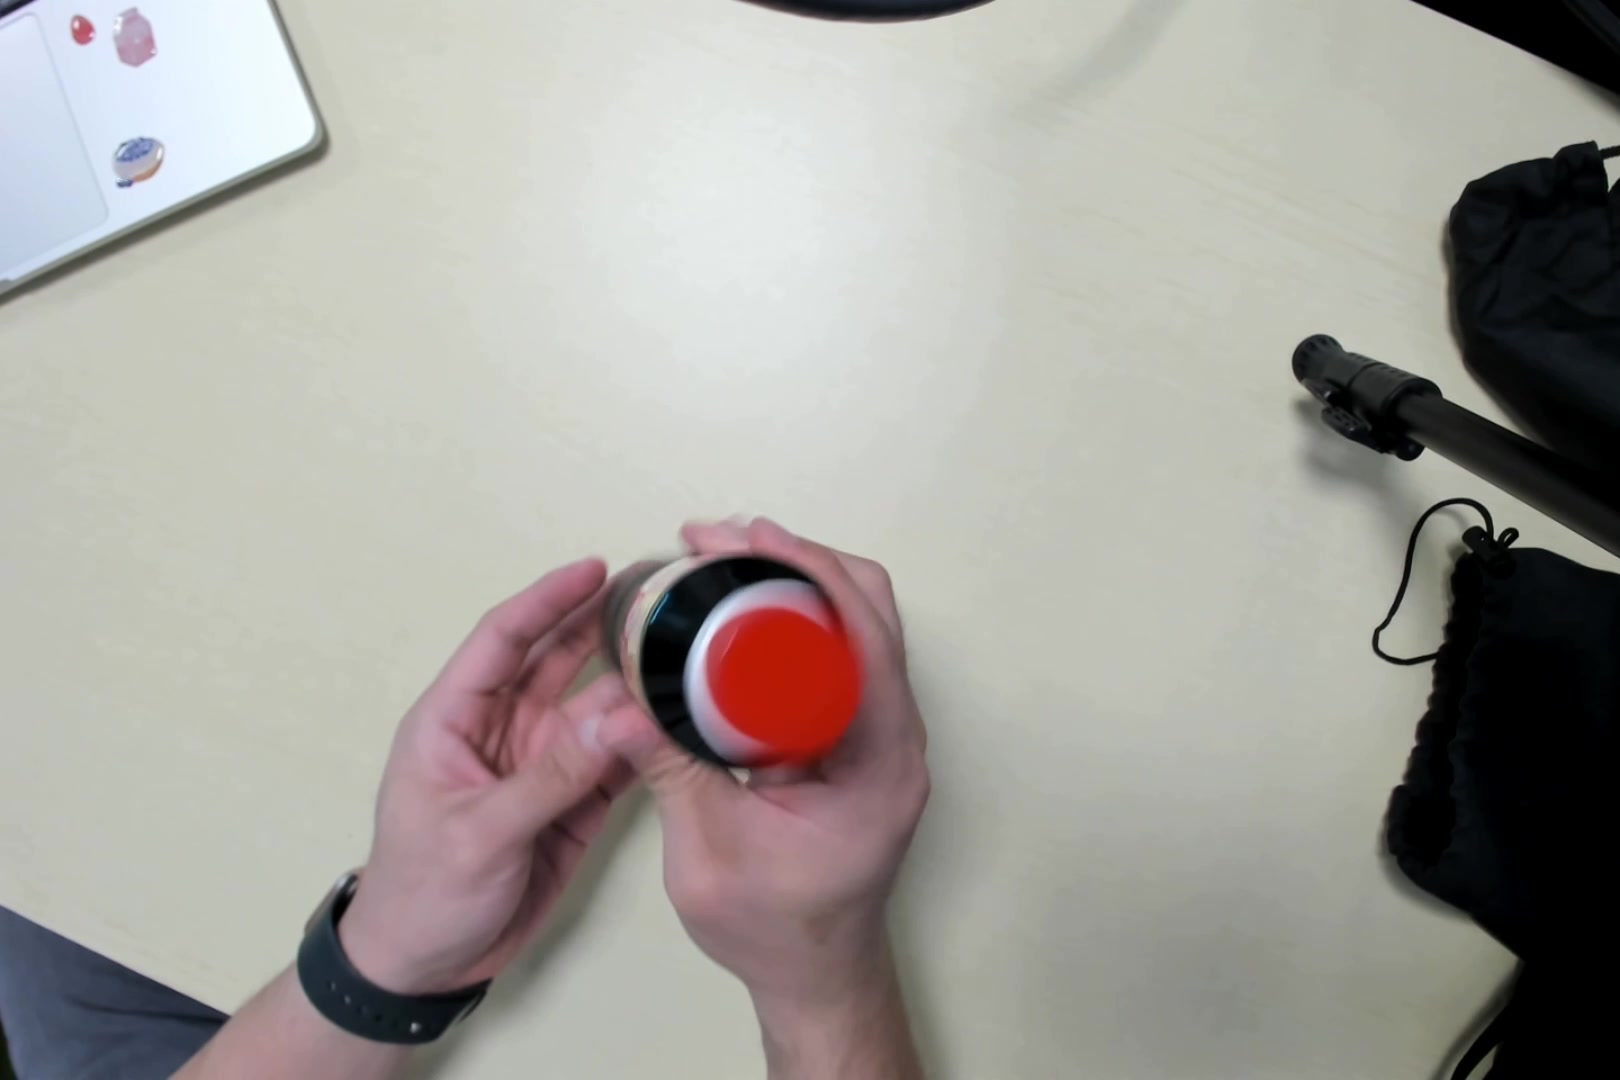DarkSoySauce_300-399g_Halal_NonHealthy: (605, 552, 865, 761)
